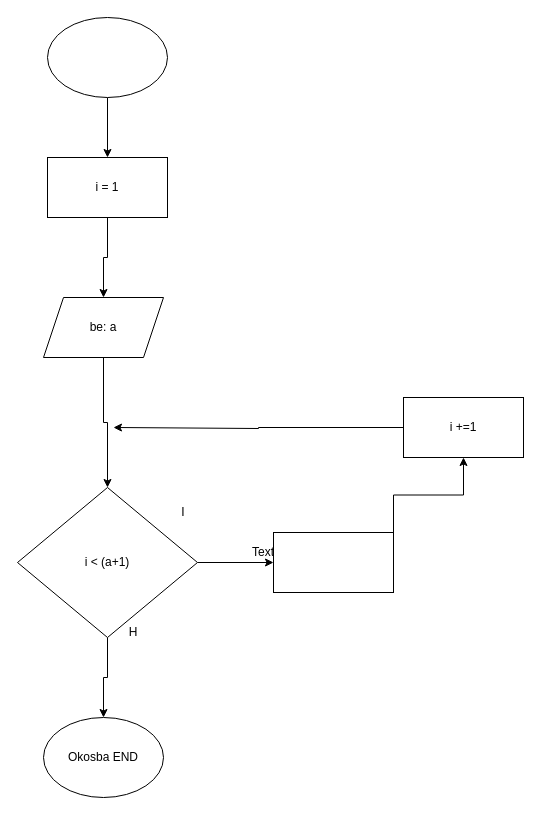
The diagram is 541 pixels wide and 815 high, and some of its shapes have lost their labels. The shapes that lost their labels are listed below. From the top down, each one's centre as x and y in pixels, then its label:
At pixel 107 57: "start".
At pixel 333 562: "Ki : (i*i)".
